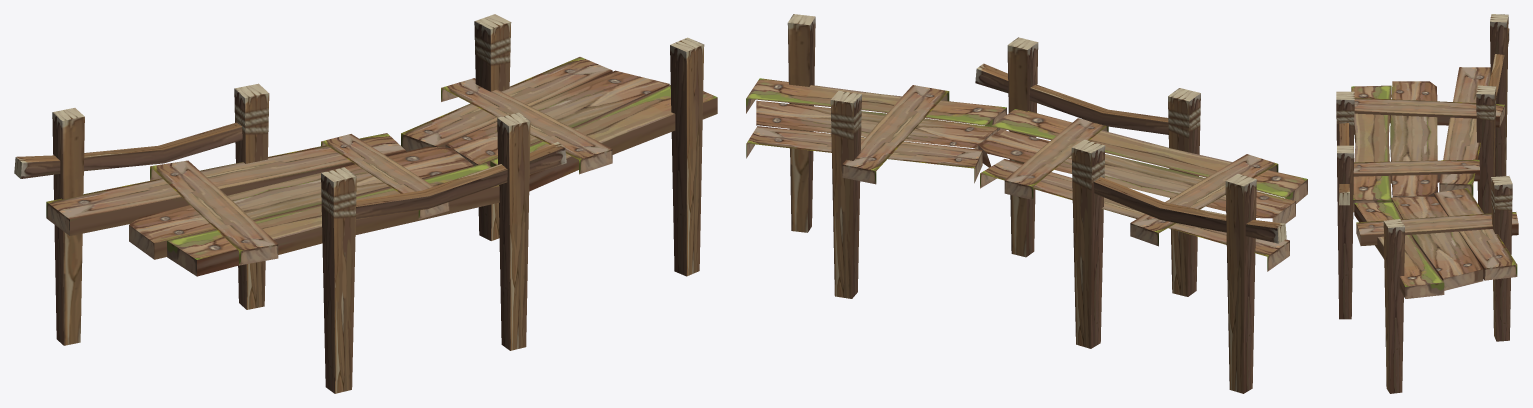
File: Map_05_wooden01.FBX
3 renders of one model, left to right at view 1: azimuth 30°, elevation 25°; view 2: azimuth 150°, elevation 25°; view 3: azimuth 270°, elevation 25°, orthographic. The views are drawn at different scales.
Visible parts, largest first — view 1: Map_05_wooden01; view 2: Map_05_wooden01; view 3: Map_05_wooden01.
Part boxes in pixels (box(x1,y1,x2,y2)): Map_05_wooden01: box(14, 14, 717, 393); Map_05_wooden01: box(746, 14, 1307, 393); Map_05_wooden01: box(1336, 14, 1518, 393).
Bounding box in the file's own units: 731 × 262 × 247.
